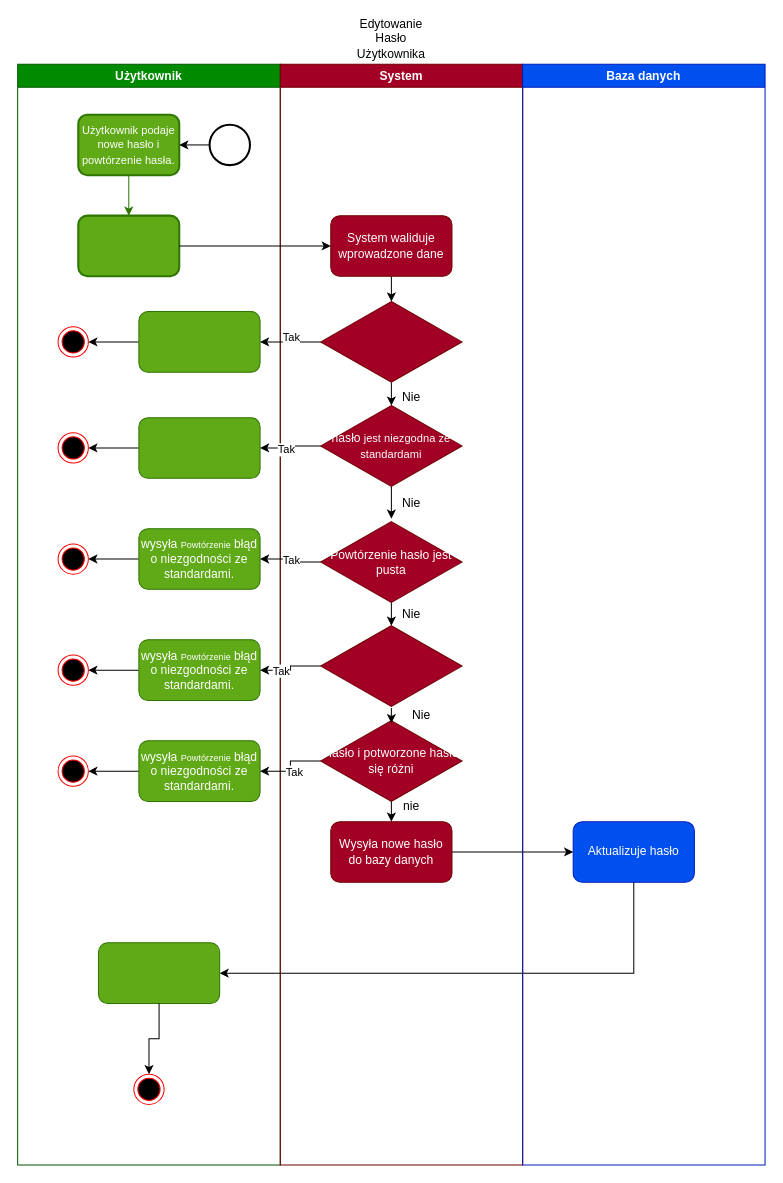
This 783x1183 diagram has some shape labels left out. The shapes that lost their labels are listed below. From the top down, each one's centre as x and y in pixels, then its label:
At (x=128, y=245): "Użytkownik wysyła dane z formularza.".
At (x=199, y=341): "wysyła hasło o pustej nazwie".
At (x=391, y=341): "hasło jest pusta".
At (x=199, y=447): "wysyła błąd o niezgodności ze standardami.".
At (x=391, y=665): "Powtórzenie hasło jest niezgodna ze standardami".
At (x=158, y=972): "wyświetla komunikat o sukcesie".
